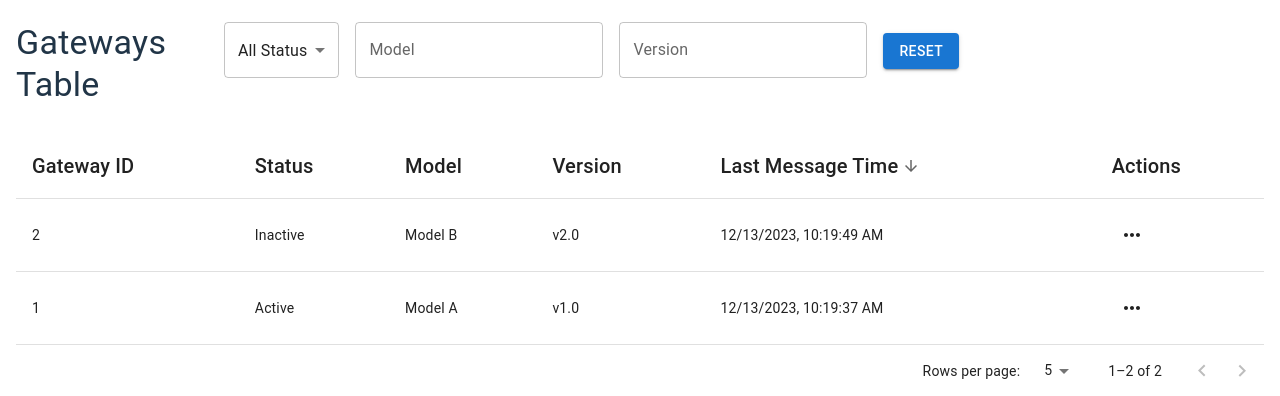
GatewayTable › filters gateways based on model
The image size is (1280, 396).
// Type "Model A" into the input element
Type "Model A" into the field labelled "Model" at (479, 50), box [355, 22, 603, 78]
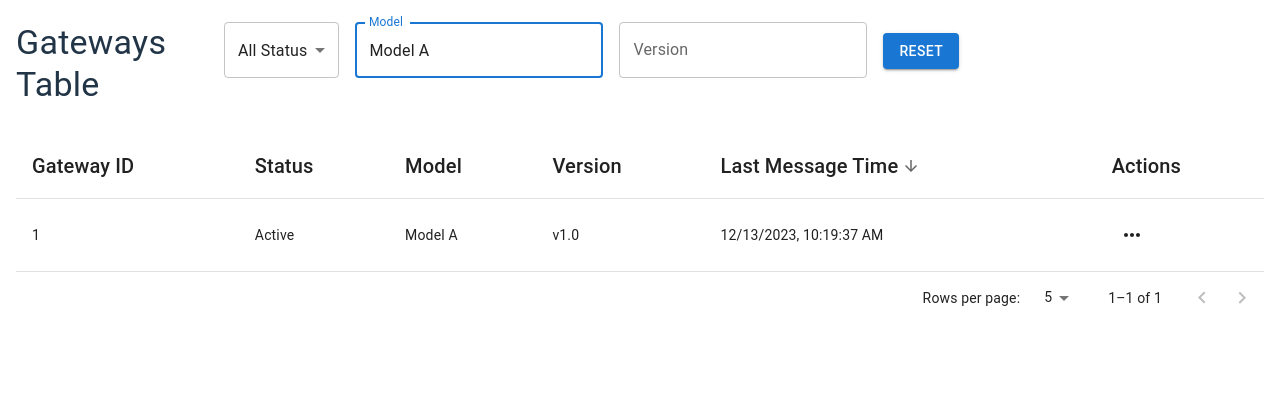
Expected: the number of rows is 2, [16, 134, 1264, 198]; [16, 198, 1264, 271]
Expected: the text "Model A" is shown, [389, 198, 536, 271]
Expected: the text "Model B" is gone
